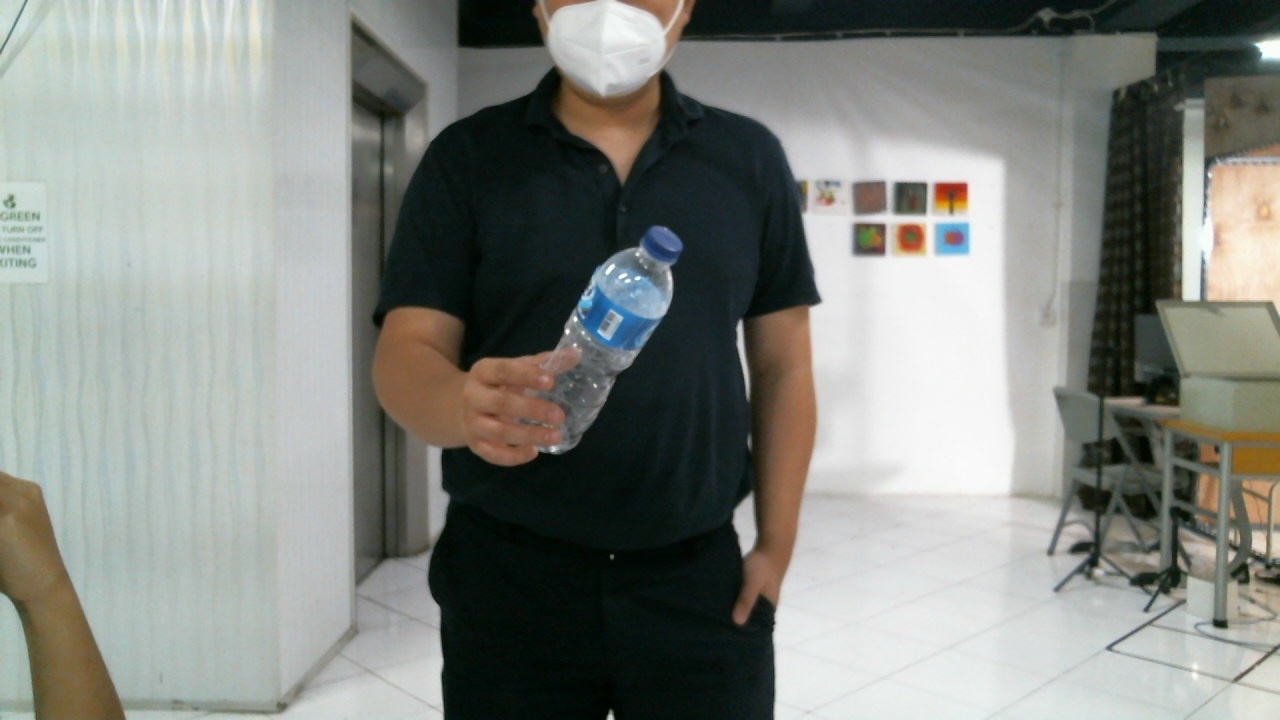Bottle: (522, 225, 682, 450)
